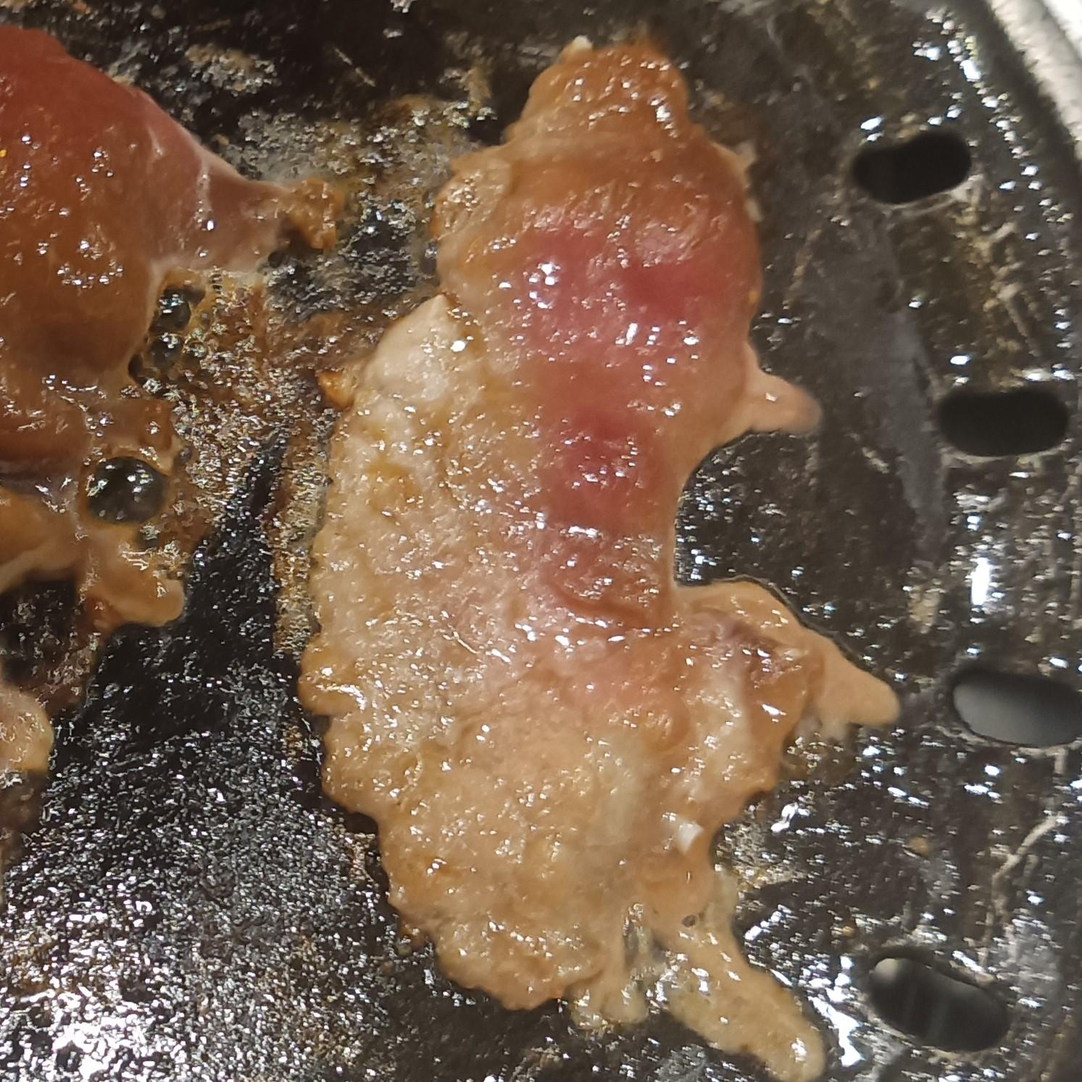Undercooked: (293, 39, 902, 1081), (0, 21, 346, 879)
